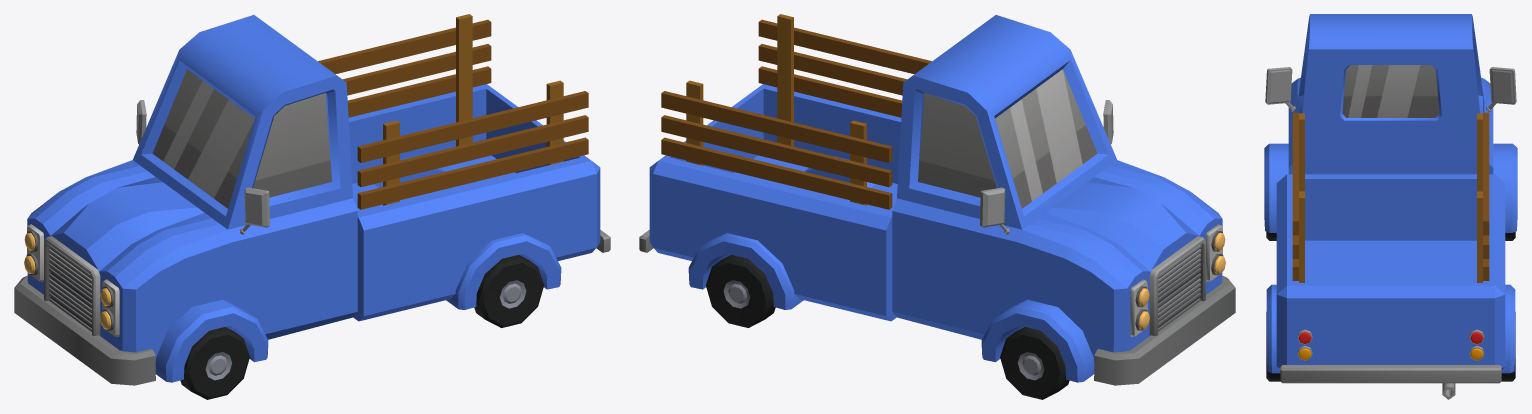
Rendered from Car_12_E.gltf.
The picture shows the model from 3 angles, left to right: view 1: azimuth 30°, elevation 25°; view 2: azimuth 150°, elevation 25°; view 3: azimuth 270°, elevation 25°; orthographic projection. The views are drawn at different scales.
Visible parts, largest first — view 1: Car_12_E, RL, FL; view 2: Car_12_E, RR, FR; view 3: Car_12_E.
Boxes of the visible parts, left/top/right/bottom form: Car_12_E: left=14, top=14, right=610, bottom=385; RL: left=474, top=255, right=544, bottom=327; FL: left=180, top=327, right=249, bottom=399; Car_12_E: left=639, top=14, right=1235, bottom=385; RR: left=705, top=255, right=775, bottom=327; FR: left=1000, top=327, right=1069, bottom=399; Car_12_E: left=1264, top=14, right=1517, bottom=399.
Bounding box in the file's own units: 3.82 × 2.01 × 1.73.
Materials: 4 (4 with a texture image).
